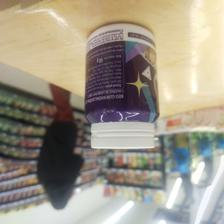Xylitol_BTS: (82, 22, 159, 152)
